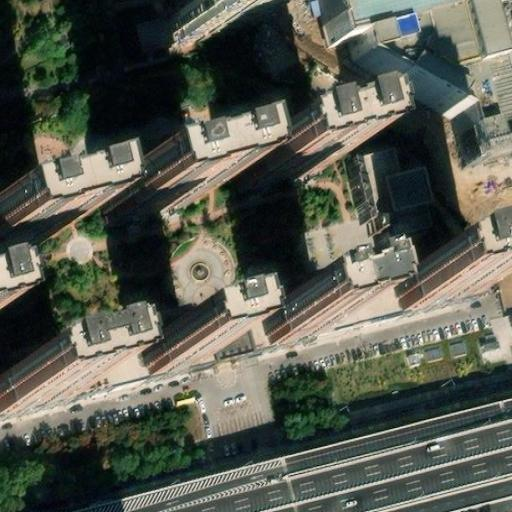building: (347, 0, 512, 145), (0, 323, 225, 395), (356, 141, 448, 278), (97, 165, 202, 224), (227, 135, 320, 193), (385, 259, 478, 317), (157, 0, 257, 49), (251, 299, 328, 353), (0, 365, 73, 421), (317, 282, 394, 331), (133, 338, 196, 381), (0, 205, 55, 251), (490, 205, 512, 243), (280, 304, 299, 320)
